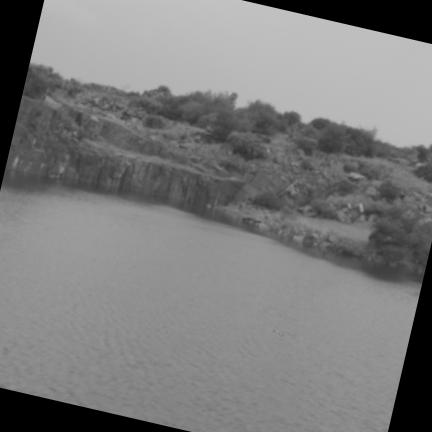Shahed: (272, 329, 286, 338)
